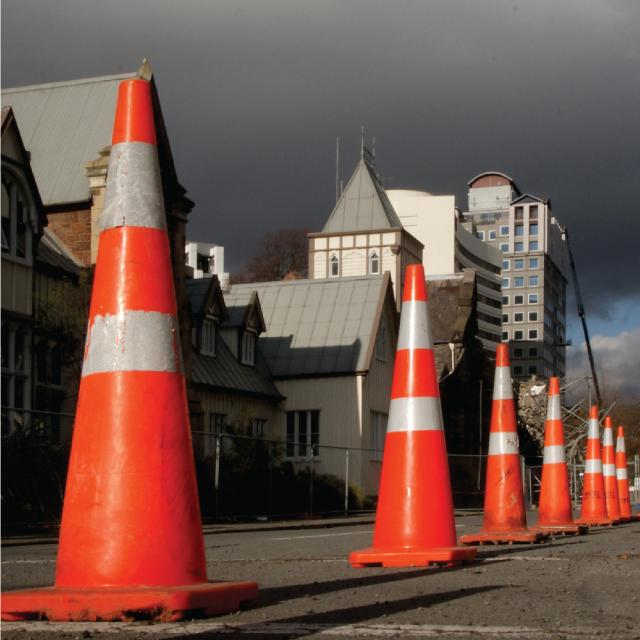Traffic Cone: (0, 54, 272, 637), (338, 242, 482, 580), (462, 333, 548, 555), (526, 373, 584, 549)
